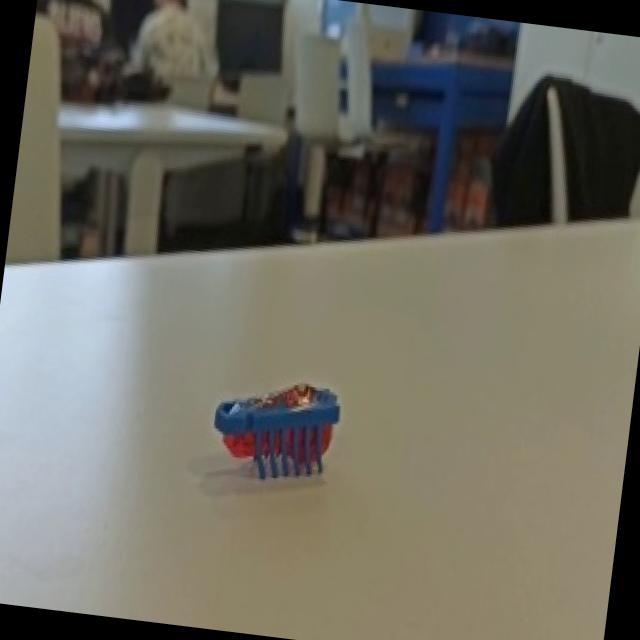1_NanoBug_Azul: (181, 342, 376, 548)
